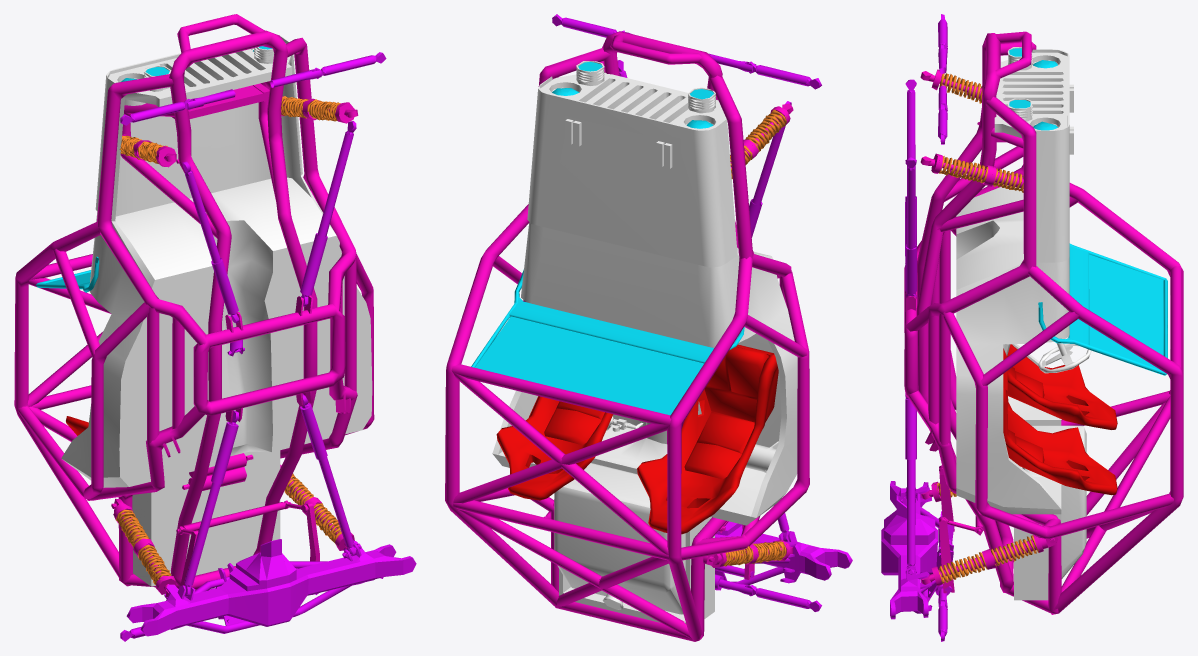
File: Pickup_LOD.FBX
3 renders of one model, left to right at view 1: azimuth 30°, elevation 25°; view 2: azimuth 150°, elevation 25°; view 3: azimuth 270°, elevation 25°, orthographic. The views are drawn at different scales.
Visible parts, largest first — view 1: Pickup; view 2: Pickup; view 3: Pickup.
Part boxes in pixels (box(x1,y1,x2,y2)): Pickup: box(14, 14, 416, 641); Pickup: box(445, 14, 852, 641); Pickup: box(881, 14, 1183, 641).
Size of the model in its own units: 190 by 184 by 365.
